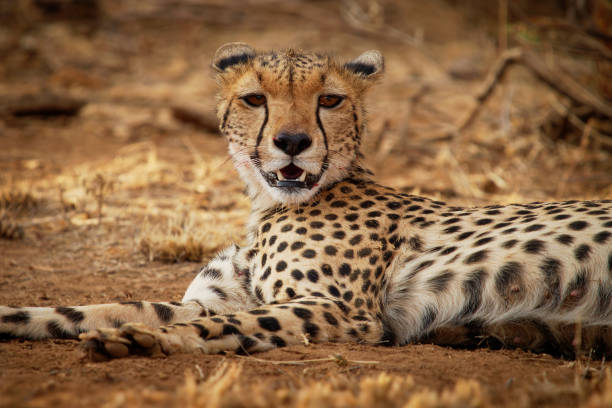cheetah: (185, 28, 426, 234)
